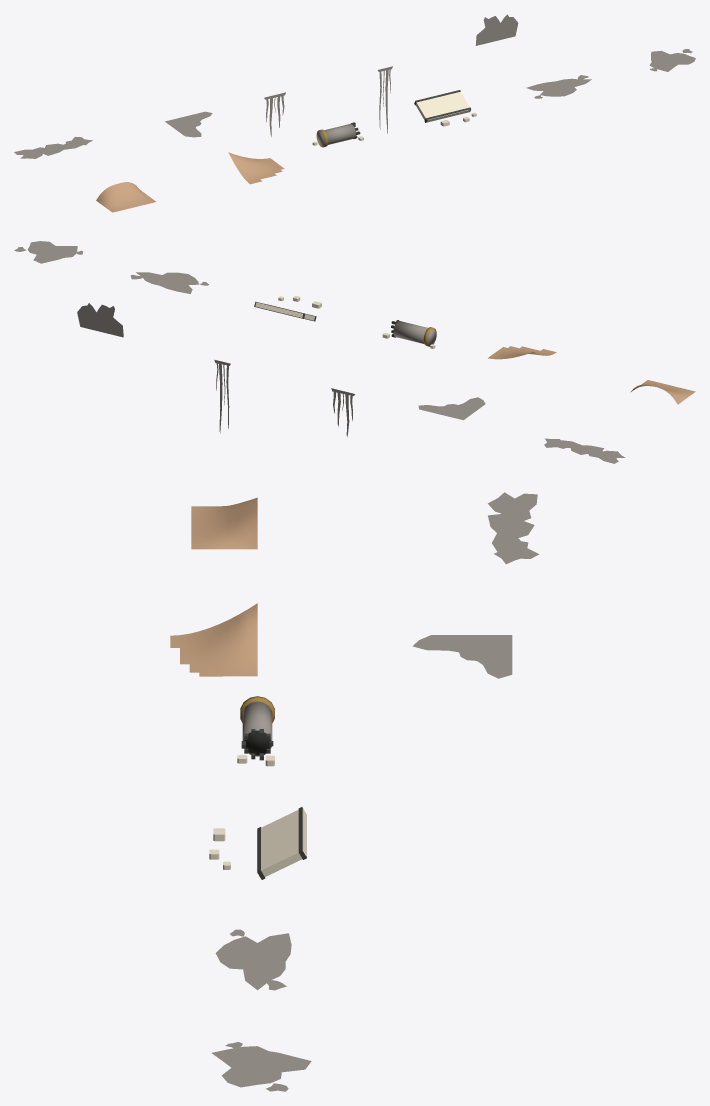
Rendered from kit_ruins_stain.glb.
The picture shows the model from 3 angles, top to bottom: view 1: azimuth 30°, elevation 25°; view 2: azimuth 150°, elevation 25°; view 3: azimuth 270°, elevation 25°; orthographic projection. The views are drawn at different scales.
Parts seen in each view (by area): view 1: panel_fallen, sand_wall, sand_corner, stain_soot, stain_floor, pipe_broken, stain_floor_b, stain_path, stain_corner, stain_drip_long, stain_drip; view 2: stain_soot, stain_floor, pipe_broken, stain_floor_b, stain_path, stain_corner, sand_corner, panel_fallen, sand_wall, stain_drip_long, stain_drip; view 3: sand_corner, sand_wall, panel_fallen, stain_floor, stain_floor_b, stain_path, stain_corner, pipe_broken.
Boxes of the visible parts, <box> form: panel_fallen: <box>414,90,476,126</box>; sand_wall: <box>96,182,155,212</box>; sand_corner: <box>228,152,284,184</box>; stain_soot: <box>475,14,518,45</box>; stain_floor: <box>526,75,591,98</box>; pipe_broken: <box>312,122,363,147</box>; stain_floor_b: <box>649,49,695,71</box>; stain_path: <box>14,137,92,158</box>; stain_corner: <box>165,111,212,137</box>; stain_drip_long: <box>378,66,392,133</box>; stain_drip: <box>264,92,285,136</box>; stain_soot: <box>77,303,123,337</box>; stain_floor: <box>130,272,208,293</box>; pipe_broken: <box>382,320,436,348</box>; stain_floor_b: <box>14,241,82,263</box>; stain_path: <box>544,438,625,463</box>; stain_corner: <box>418,397,485,420</box>; sand_corner: <box>488,346,556,359</box>; panel_fallen: <box>254,296,321,321</box>; sand_wall: <box>630,380,695,404</box>; stain_drip_long: <box>214,359,230,433</box>; stain_drip: <box>331,388,354,436</box>; sand_corner: <box>170,603,257,676</box>; sand_wall: <box>191,497,257,549</box>; panel_fallen: <box>209,807,306,879</box>; stain_floor: <box>215,929,291,990</box>; stain_floor_b: <box>212,1042,311,1091</box>; stain_path: <box>488,492,538,564</box>; stain_corner: <box>412,635,512,678</box>; pipe_broken: <box>237,696,274,766</box>.
Size of the model in its own units: 27.85 by 4.04 by 7.25.
